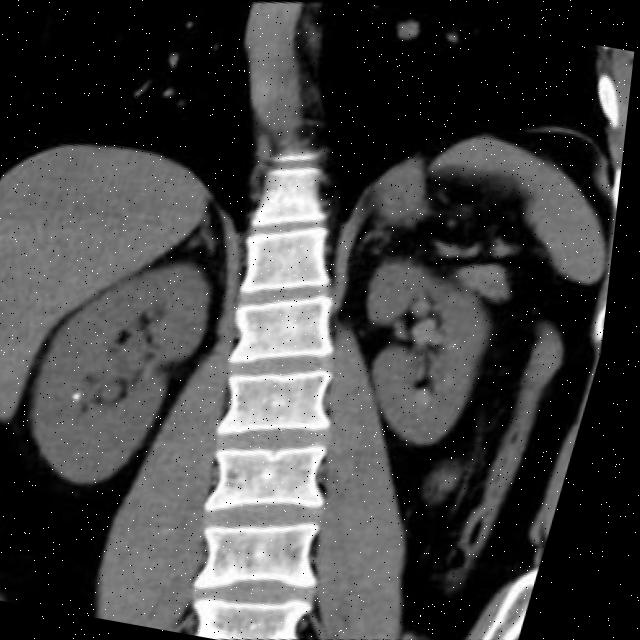Tas_Var: (71, 382, 103, 408)
